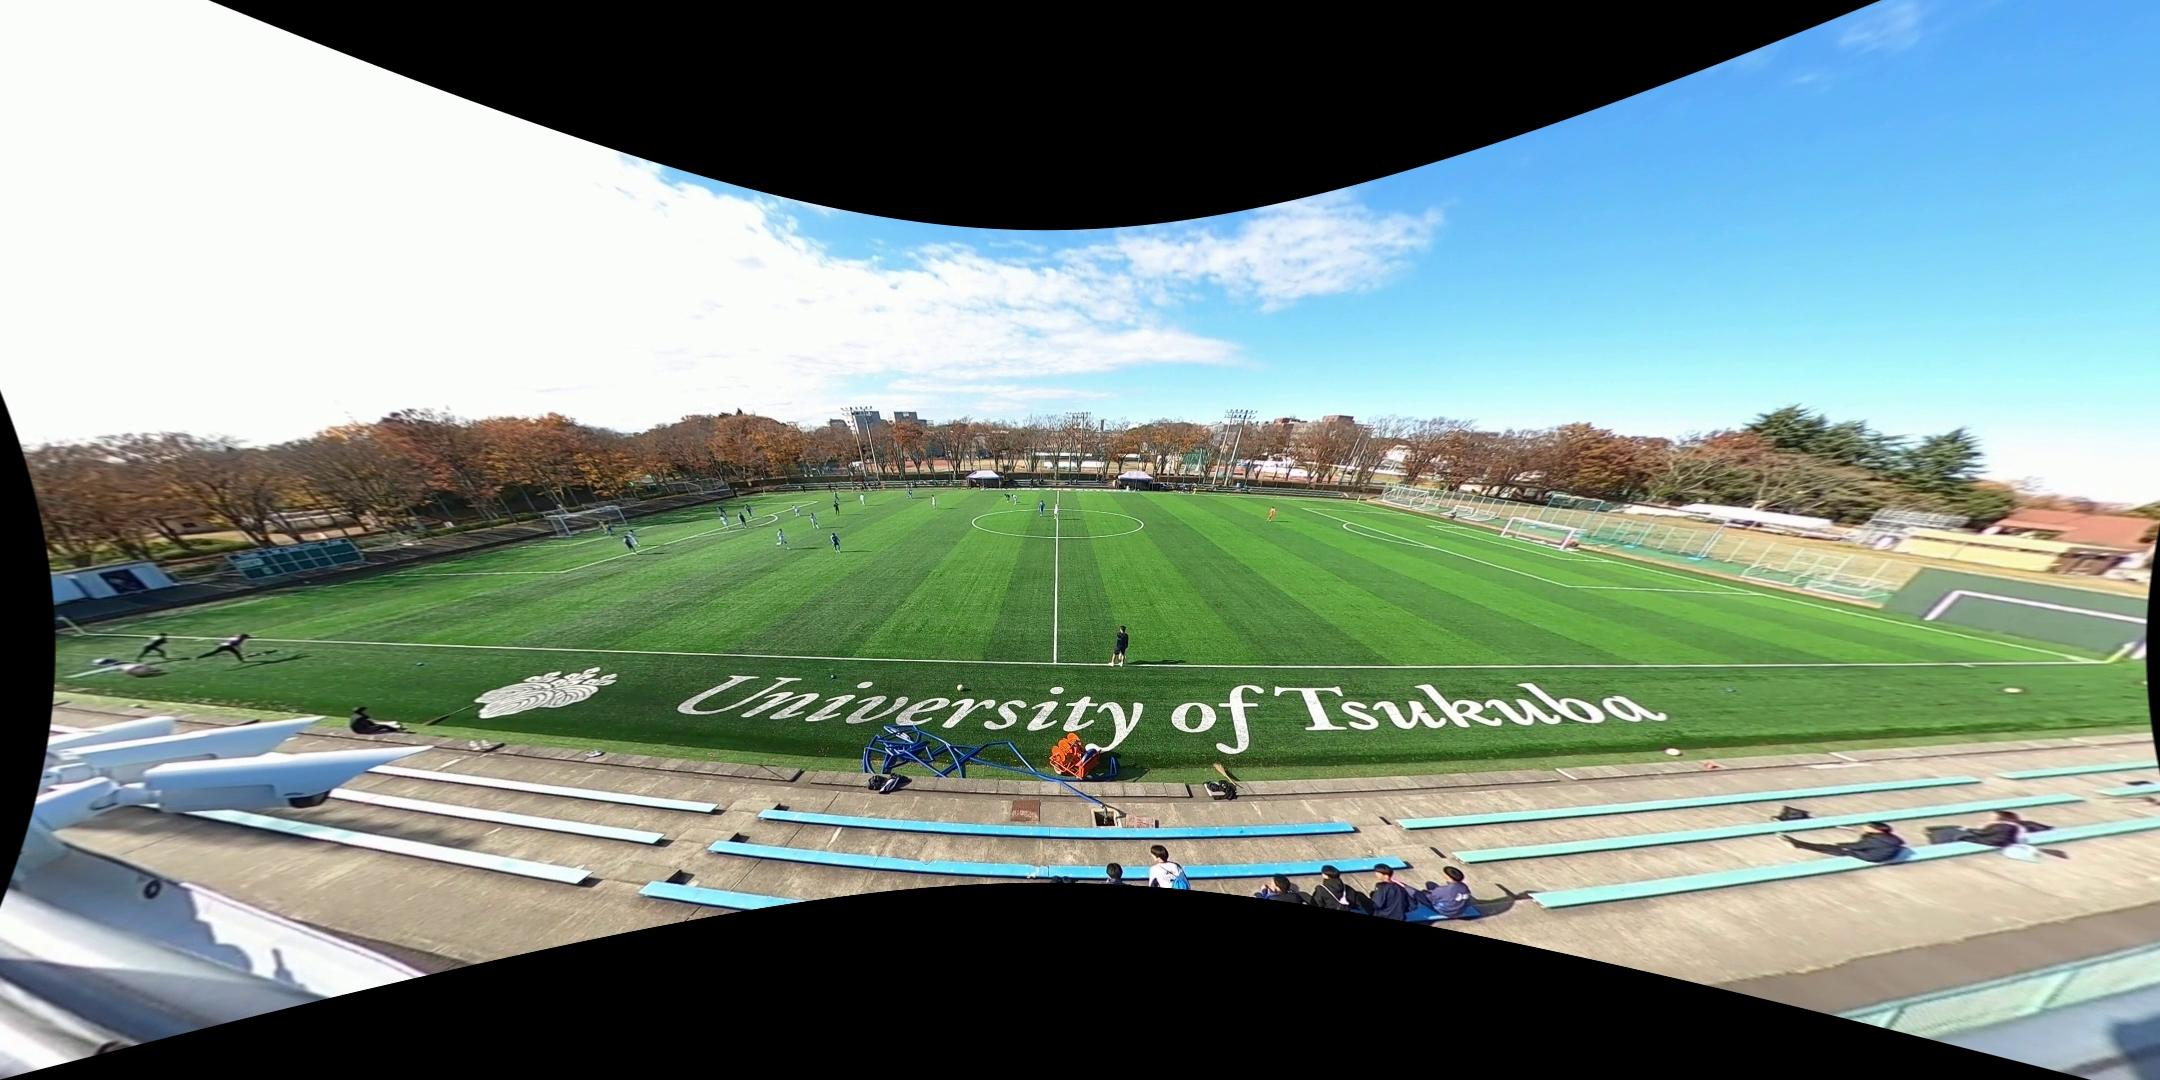person: (1111, 625, 1130, 665), (622, 535, 637, 555), (831, 534, 842, 554), (597, 518, 608, 537), (629, 530, 641, 547), (720, 514, 730, 533), (743, 503, 754, 519), (736, 513, 747, 529), (809, 512, 820, 528), (1265, 506, 1276, 522), (777, 527, 786, 546), (716, 503, 726, 519), (790, 503, 800, 518), (1037, 500, 1046, 516), (1053, 502, 1061, 520), (905, 488, 914, 499), (931, 495, 937, 509), (834, 502, 840, 515), (860, 494, 866, 506), (1012, 494, 1018, 506), (834, 491, 840, 502), (1003, 494, 1010, 503)
sports ball: (955, 684, 965, 693)
